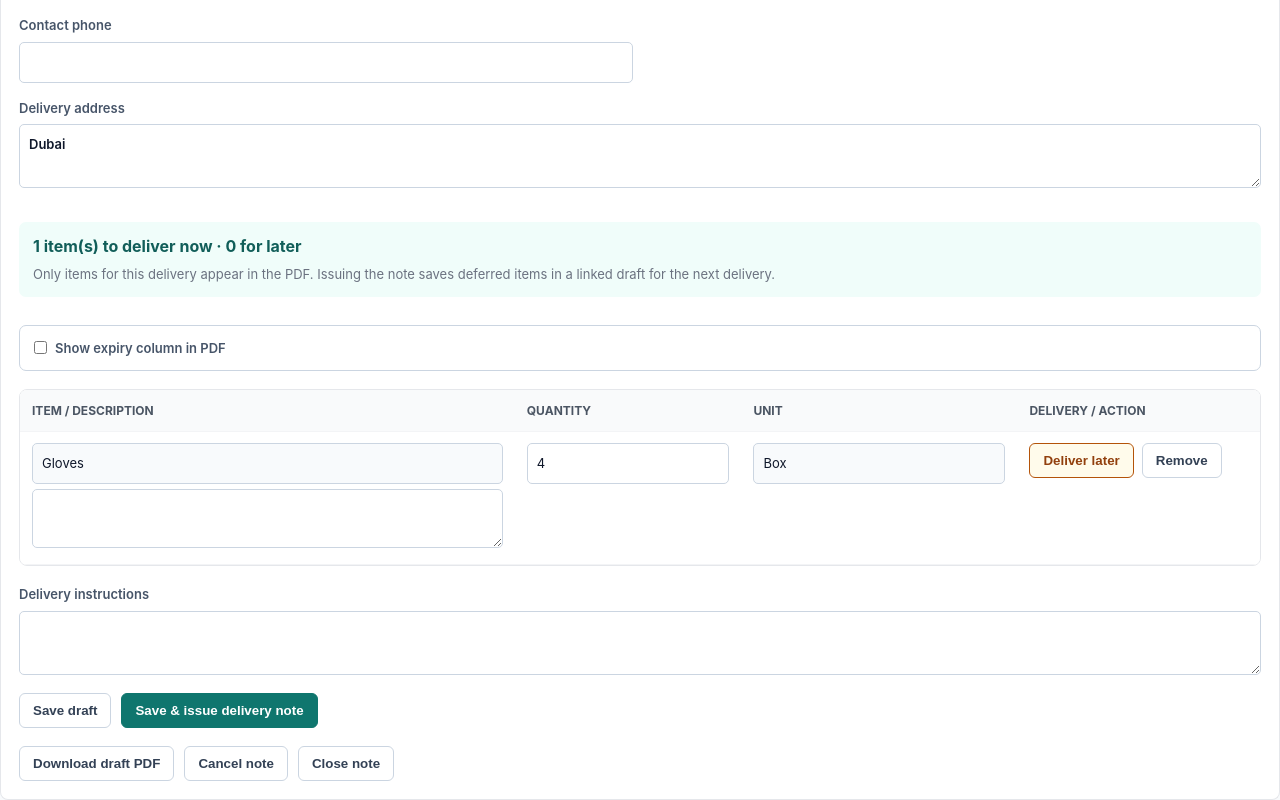
deliver later persists on draft rows and all-deferred notes cannot be issued
(page scrolled)
Click the button with aria-label "Deliver later: Gloves" at (1082, 461), box [1029,444,1134,478]
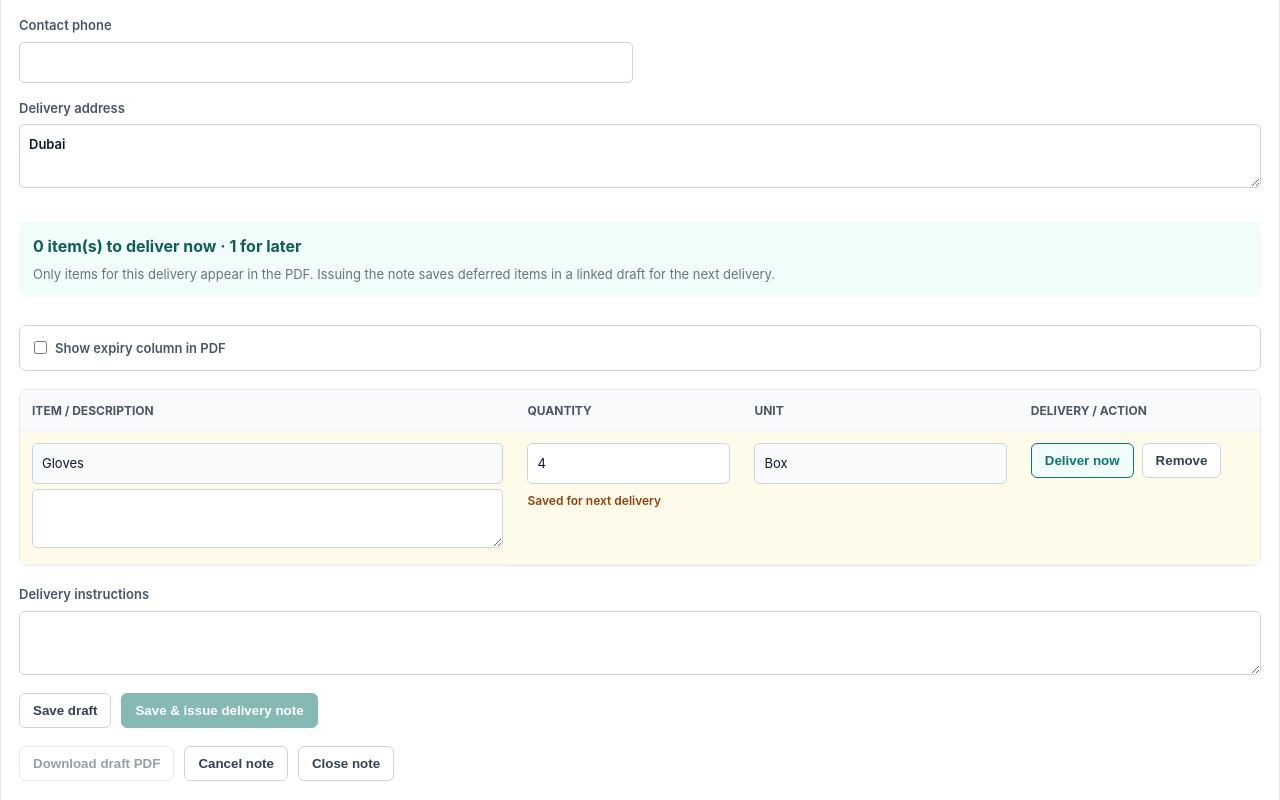
Check: the text "Saved for next delivery" is shown, box [528,493,661,508]
Check: the button "Save & issue delivery note" is disabled, box [122,693,318,728]
Check: the button "Download draft PDF" is disabled, box [19,746,174,781]
Click the button "Save draft" at (65, 711), box [19,693,112,728]
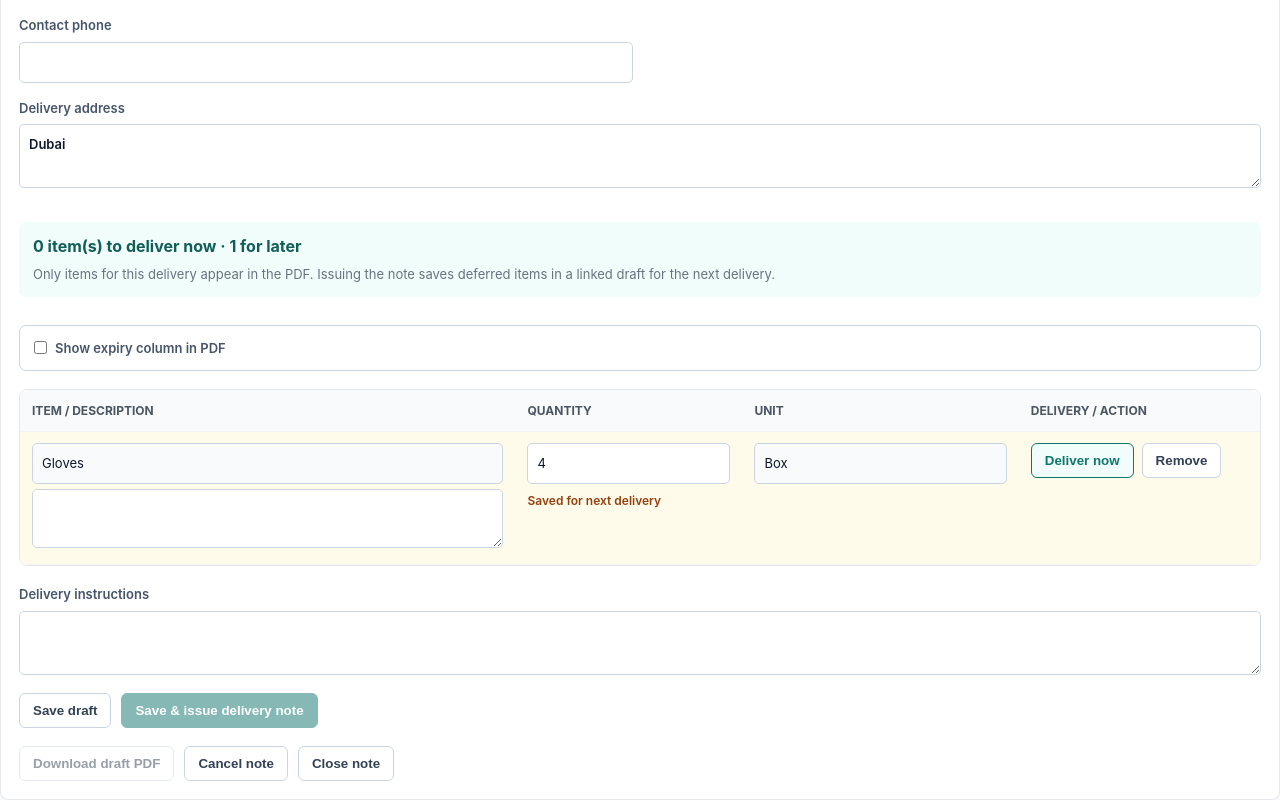
Click the button with aria-label "Deliver now: Gloves" at (1082, 461), box [1031,444,1134,478]
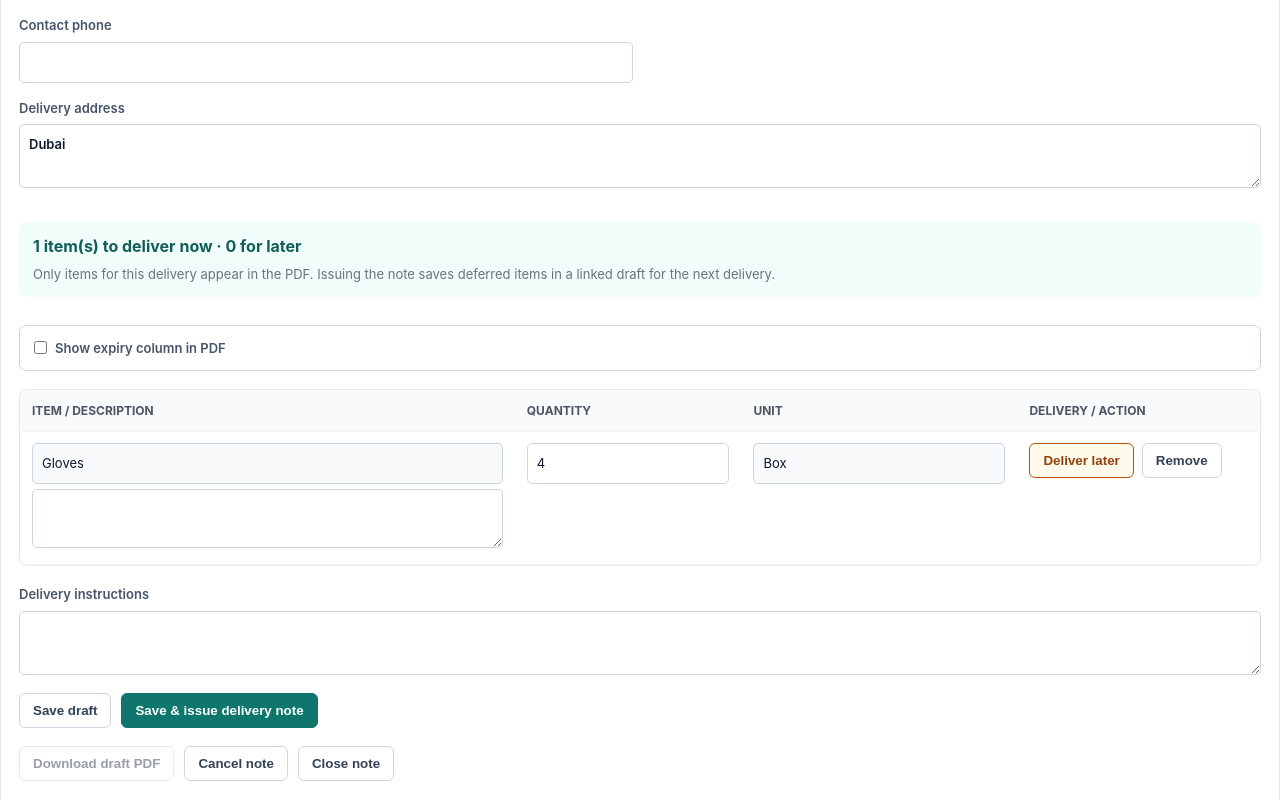
Check: the button "Save & issue delivery note" is enabled, box [122,693,318,728]
